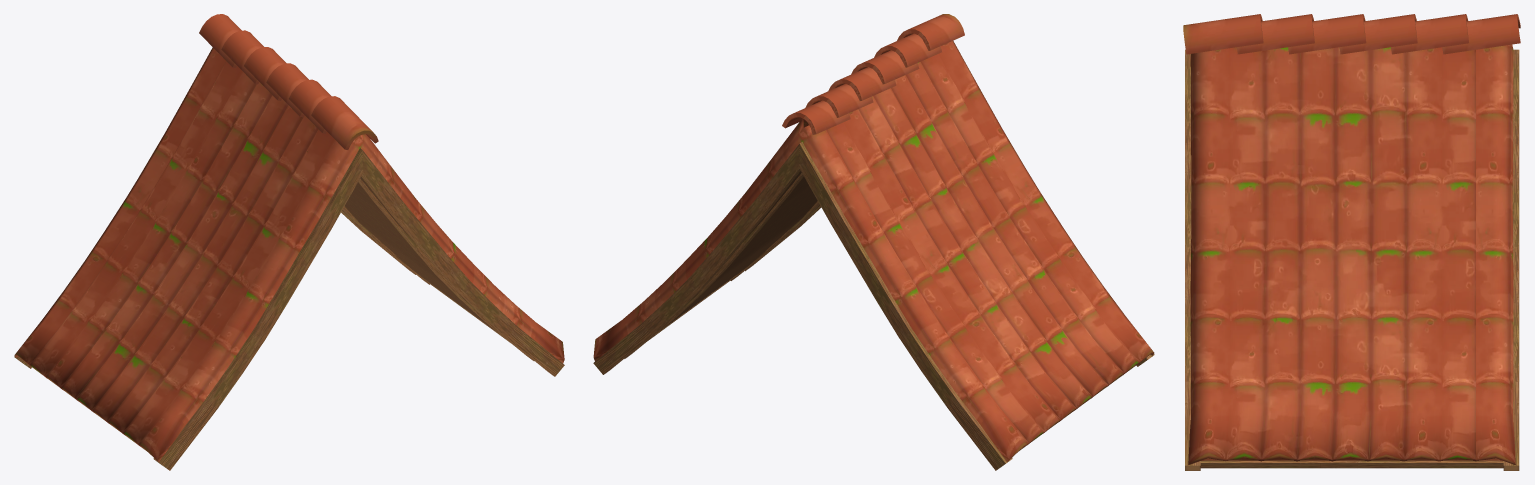
Rendered from roof_roundtiles_6x4.glb.
The picture shows the model from 3 angles, left to right: view 1: azimuth 30°, elevation 25°; view 2: azimuth 150°, elevation 25°; view 3: azimuth 270°, elevation 25°; orthographic projection. The views are drawn at different scales.
Bounding box in the file's own units: 8.25 × 5.67 × 4.99.
2 materials, 2 textured.
